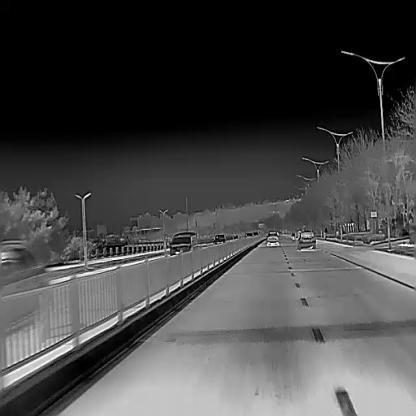car: (0, 238, 55, 341), (169, 231, 198, 255), (296, 229, 316, 249), (265, 230, 280, 247), (212, 233, 225, 245)
